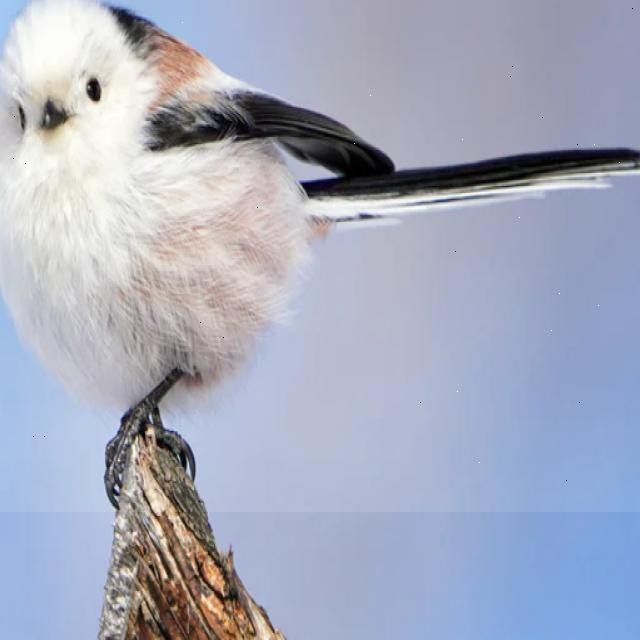bird: (0, 0, 640, 512)
